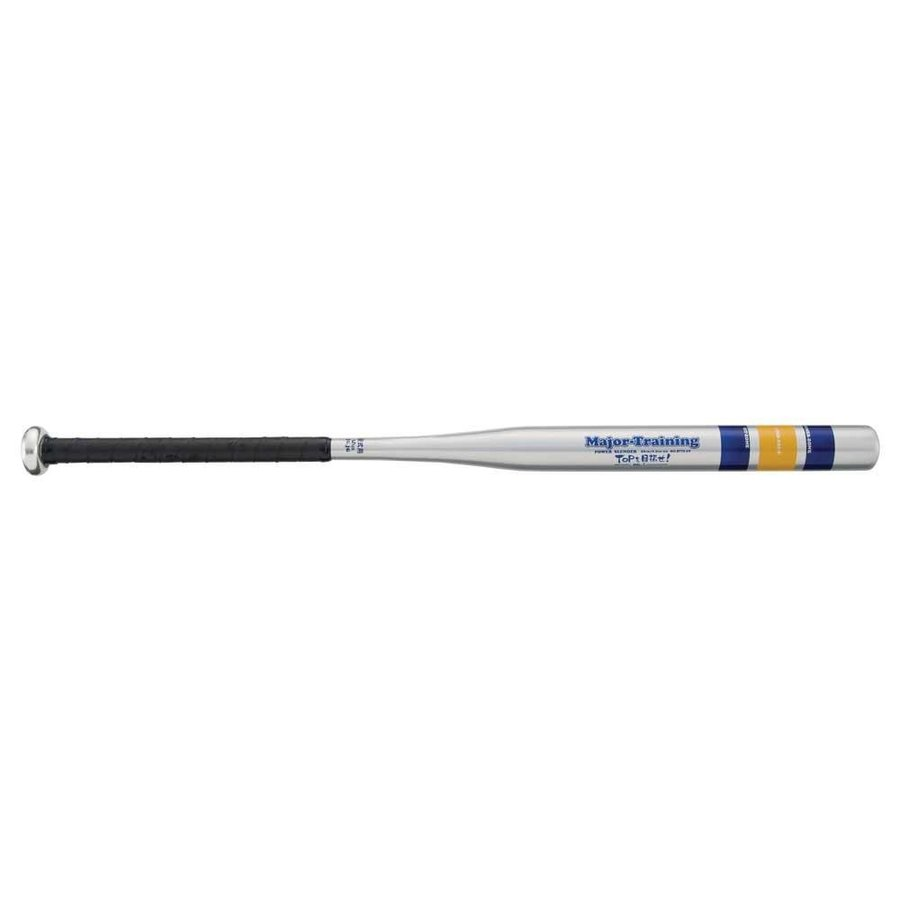bat: (11, 421, 878, 478)
